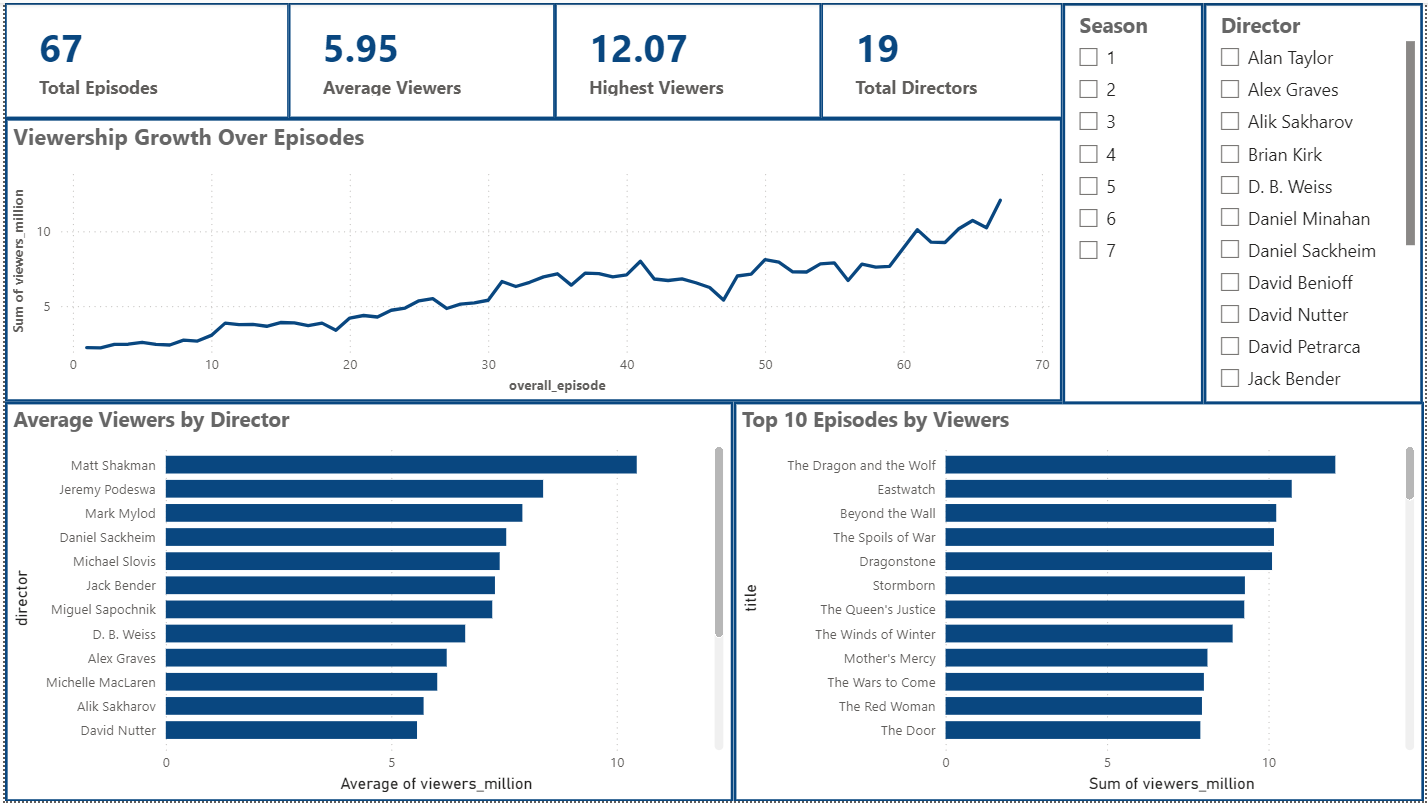

The page's visual inventory and layout, read from the dashboard file:
{"tool":"powerbi","page":{"name":"Page 1","canvas":[1280,720],"ordinal":0},"visuals":[{"type":"cardVisual","fields":{"Data":["CountNonNull(got_sheet_cleaned.overall_episode)"]},"box":[0,0,256.2,103.8],"z":0},{"type":"cardVisual","fields":{"Data":["Avg(got_sheet_cleaned.viewers_million)"]},"box":[256.2,0,240,103.8],"z":1000},{"type":"cardVisual","fields":{"Data":["got_sheet_cleaned.Highest Viewers"]},"box":[496.2,0,240,103.8],"z":2000},{"type":"cardVisual","fields":{"Data":["got_sheet_cleaned.Total Directors"]},"box":[736.2,0,217.5,103.8],"z":3000},{"type":"lineChart","title":"Viewership Growth Over Episodes","fields":{"Y":["Sum(got_sheet_cleaned.viewers_million)"],"Category":["got_sheet_cleaned.overall_episode"]},"box":[0,103.8,953.8,256.2],"z":4000},{"type":"clusteredBarChart","title":"Top 10 Episodes by Viewers","fields":{"Category":["got_sheet_cleaned.title"],"Y":["Sum(got_sheet_cleaned.viewers_million)"]},"box":[656.7,359.5,622.4,360.7],"z":5000},{"type":"barChart","title":"Average Viewers by Director","fields":{"Category":["got_sheet_cleaned.director"],"Y":["Avg(got_sheet_cleaned.viewers_million)"]},"box":[0,359.5,656.7,360.7],"z":7000},{"type":"slicer","fields":{"Values":["got_sheet_cleaned.season"]},"box":[953.8,0,127.5,361.2],"z":8000},{"type":"slicer","fields":{"Values":["got_sheet_cleaned.director"]},"box":[1081.2,0,197.5,361.2],"z":9000}]}

Visuals, with their boxes in screenshot pixels (x1, y1, x2, y2), scaled from the page's 1280x720 canvas onto the 1428x803 screenshot:
cardVisual - CountNonNull(got_sheet_cleaned.overall_episode): region(0, 0, 286, 116)
cardVisual - Avg(got_sheet_cleaned.viewers_million): region(286, 0, 554, 116)
cardVisual - got_sheet_cleaned.Highest Viewers: region(554, 0, 821, 116)
cardVisual - got_sheet_cleaned.Total Directors: region(821, 0, 1064, 116)
"Viewership Growth Over Episodes" lineChart: region(0, 116, 1064, 402)
"Top 10 Episodes by Viewers" clusteredBarChart: region(733, 401, 1427, 802)
"Average Viewers by Director" barChart: region(0, 401, 733, 802)
slicer - got_sheet_cleaned.season: region(1064, 0, 1206, 403)
slicer - got_sheet_cleaned.director: region(1206, 0, 1427, 403)
